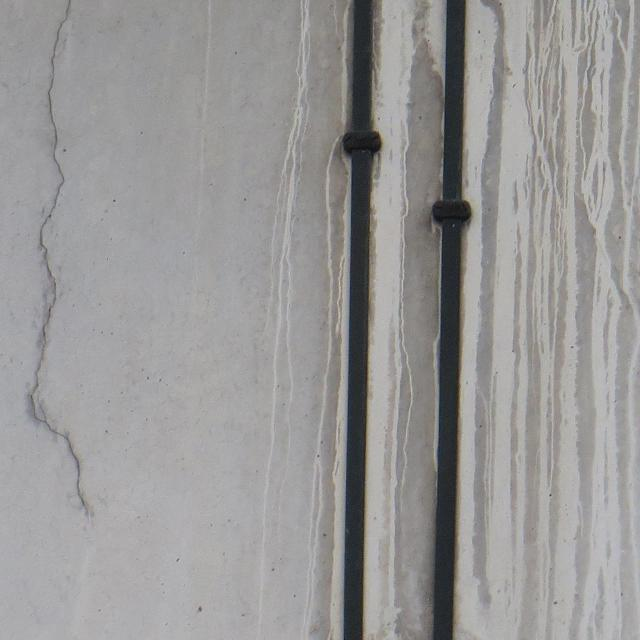vertical crack: (27, 0, 91, 518)
